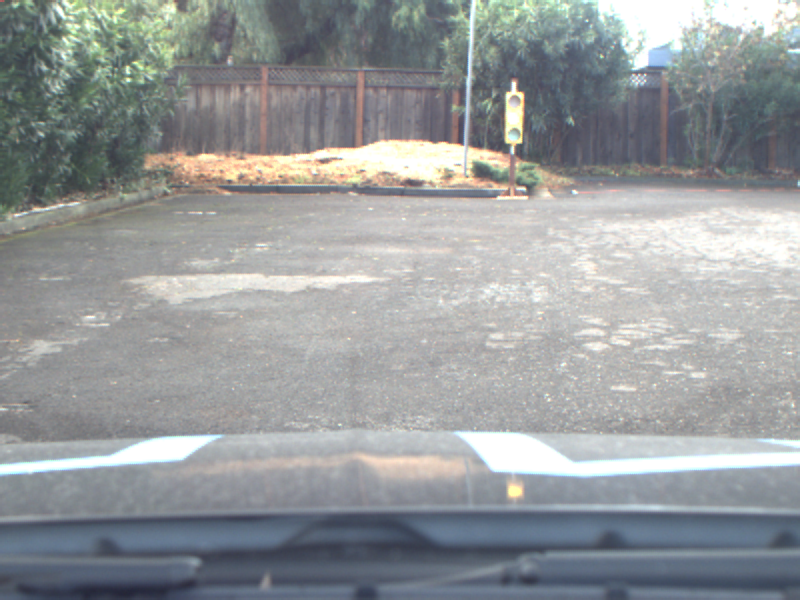Yellow: (505, 91, 523, 145)
